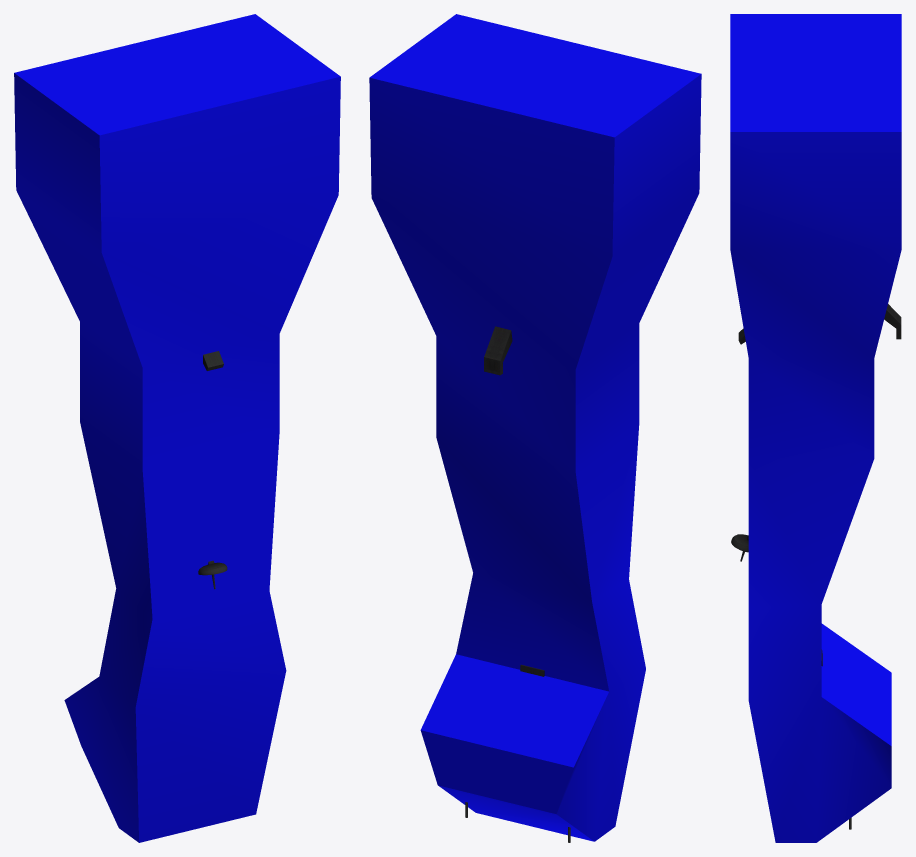
Rendered from NeutronStar.obj.
The picture shows the model from 3 angles, left to right: view 1: azimuth 30°, elevation 25°; view 2: azimuth 150°, elevation 25°; view 3: azimuth 270°, elevation 25°; orthographic projection.
Parts seen in each view (by area): view 1: Coll, NeutronStar; view 2: Coll, NeutronStar; view 3: Coll, NeutronStar.
Boxes of the visible parts, x1,y1,x2,y2 form: Coll: (14, 14, 340, 842); NeutronStar: (198, 351, 227, 589); Coll: (369, 14, 701, 841); NeutronStar: (465, 326, 570, 842); Coll: (730, 14, 901, 842); NeutronStar: (731, 304, 901, 829).
Size of the model in its own units: 206 by 604 by 127.
